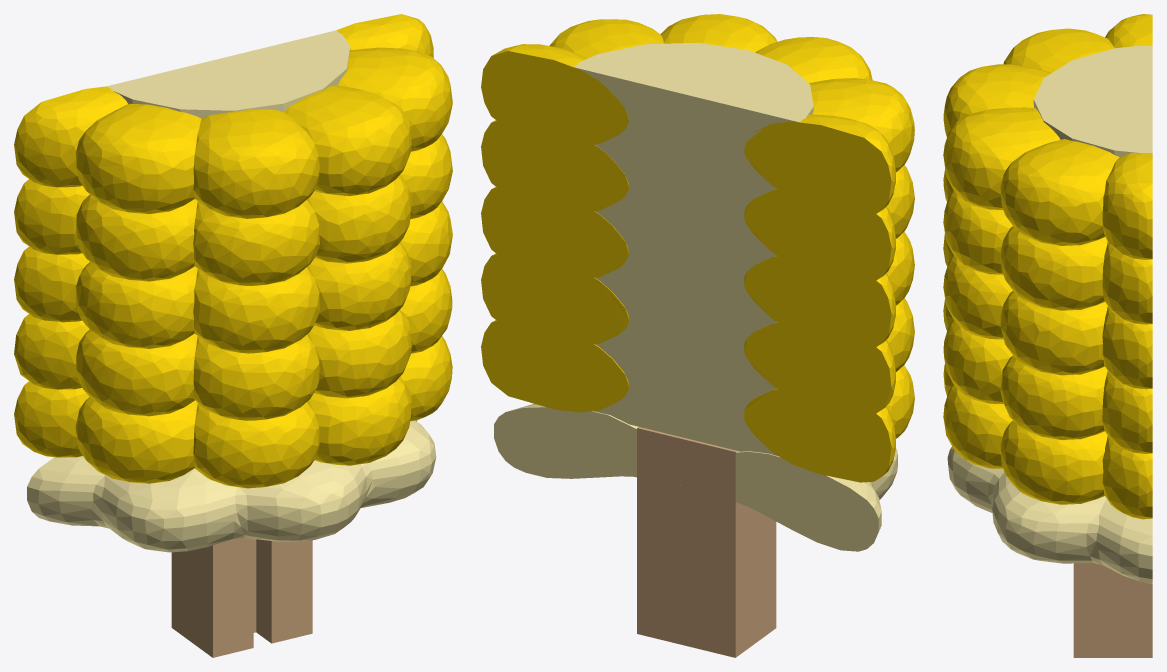
The model's file is corn.glb.
3 renders of one model, left to right at view 1: azimuth 30°, elevation 25°; view 2: azimuth 150°, elevation 25°; view 3: azimuth 270°, elevation 25°, orthographic. The views are drawn at different scales.
Visible parts, largest first — view 1: Cube.713, Cube.002, Cube.001; view 2: Cube.713, Cube.001, Cube.002; view 3: Cube.713, Cube.001, Cube.002.
Part boxes in pixels (x1=…): Cube.713: x1=14, y1=14, x2=452, y2=552; Cube.002: x1=171, y1=538, x2=312, y2=657; Cube.001: x1=107, y1=30, x2=350, y2=118; Cube.713: x1=481, y1=14, x2=914, y2=551; Cube.001: x1=573, y1=42, x2=813, y2=456; Cube.002: x1=637, y1=427, x2=776, y2=657; Cube.713: x1=943, y1=14, x2=1152, y2=583; Cube.001: x1=1033, y1=45, x2=1152, y2=156; Cube.002: x1=1073, y1=563, x2=1152, y2=657.
Size of the model in its own units: 11.66 by 15.03 by 5.3.
